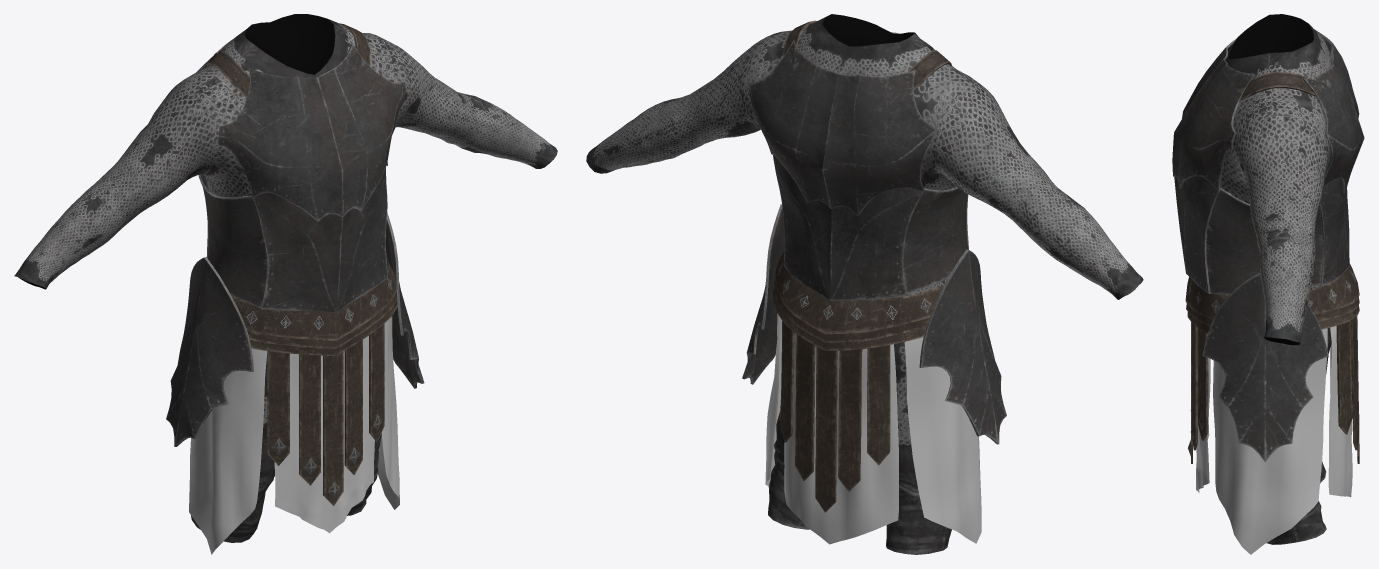
Rendered from sk_uruk_mordor_chainmail_heavy_d1.fbx.
3 views of the same model, side by side, from view 1: azimuth 30°, elevation 25°; view 2: azimuth 150°, elevation 25°; view 3: azimuth 270°, elevation 25° (orthographic). The views are drawn at different scales.
Parts seen in each view (by area): view 1: sk_uruk_mordor_chainmail_heavy_d1.3, sk_uruk_mordor_chainmail_heavy_d1.0, sk_uruk_mordor_chainmail_heavy_d1.1, sk_uruk_mordor_chainmail_heavy_d1.2; view 2: sk_uruk_mordor_chainmail_heavy_d1.3, sk_uruk_mordor_chainmail_heavy_d1.0, sk_uruk_mordor_chainmail_heavy_d1.1, sk_uruk_mordor_chainmail_heavy_d1.2; view 3: sk_uruk_mordor_chainmail_heavy_d1.3, sk_uruk_mordor_chainmail_heavy_d1.0, sk_uruk_mordor_chainmail_heavy_d1.2, sk_uruk_mordor_chainmail_heavy_d1.1.
Part boxes in pixels (x1,y1,x2,y2): sk_uruk_mordor_chainmail_heavy_d1.3: (166,39,424,446); sk_uruk_mordor_chainmail_heavy_d1.0: (14,14,557,542); sk_uruk_mordor_chainmail_heavy_d1.1: (206,23,397,505); sk_uruk_mordor_chainmail_heavy_d1.2: (189,316,399,554); sk_uruk_mordor_chainmail_heavy_d1.3: (742,32,1006,444); sk_uruk_mordor_chainmail_heavy_d1.0: (586,14,1143,554); sk_uruk_mordor_chainmail_heavy_d1.1: (772,20,951,512); sk_uruk_mordor_chainmail_heavy_d1.2: (765,313,981,544); sk_uruk_mordor_chainmail_heavy_d1.3: (1172,29,1364,462); sk_uruk_mordor_chainmail_heavy_d1.0: (1220,14,1331,544); sk_uruk_mordor_chainmail_heavy_d1.2: (1196,326,1352,554); sk_uruk_mordor_chainmail_heavy_d1.1: (1185,72,1359,463).
Bounding box in the file's own units: 1.37 × 0.4386 × 1.21.
